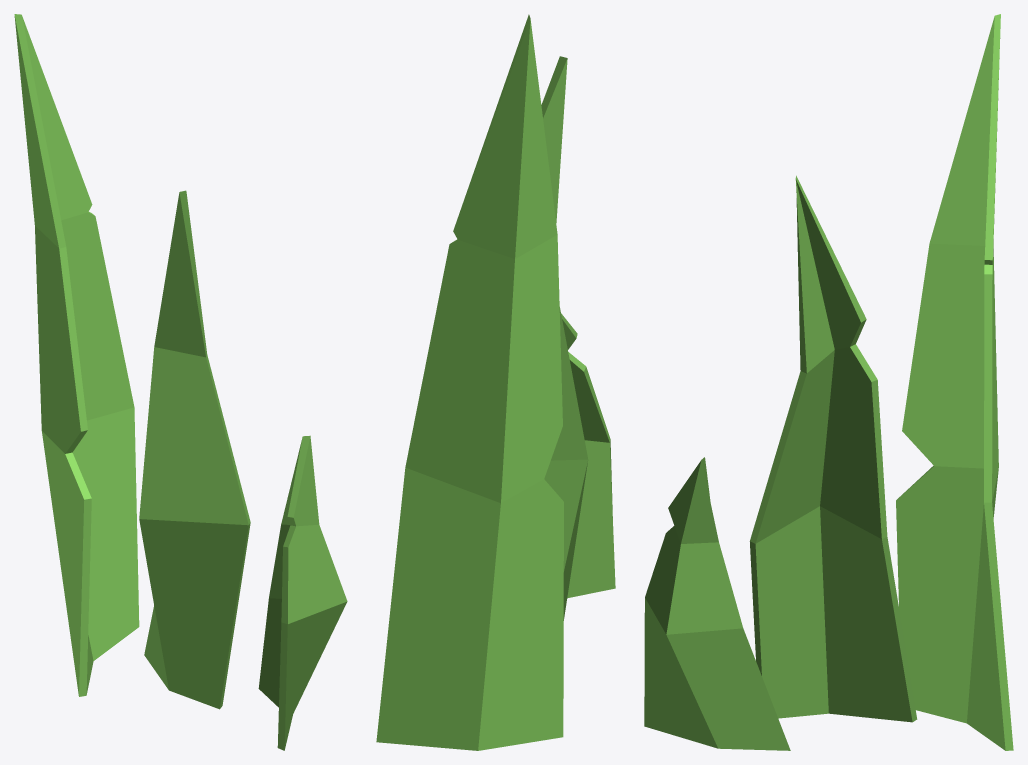
The model's file is Grass buket2.fbx.
3 renders of one model, left to right at view 1: azimuth 30°, elevation 25°; view 2: azimuth 150°, elevation 25°; view 3: azimuth 270°, elevation 25°, orthographic. The views are drawn at different scales.
Visible parts, largest first — view 1: Plane.009, Plane.010, Plane.011; view 2: Plane.009, Plane.011, Plane.010; view 3: Plane.010, Plane.009, Plane.011.
Part boxes in pixels (x1,y1,x2,y2): Plane.009: (14, 14, 139, 696); Plane.010: (139, 190, 250, 709); Plane.011: (258, 435, 347, 750); Plane.009: (376, 14, 563, 750); Plane.011: (561, 313, 615, 598); Plane.010: (541, 56, 588, 620); Plane.010: (749, 175, 917, 722); Plane.009: (896, 14, 1013, 750); Plane.011: (644, 457, 790, 750).
Bounding box in the file's own units: 76.42 × 277 × 136.
